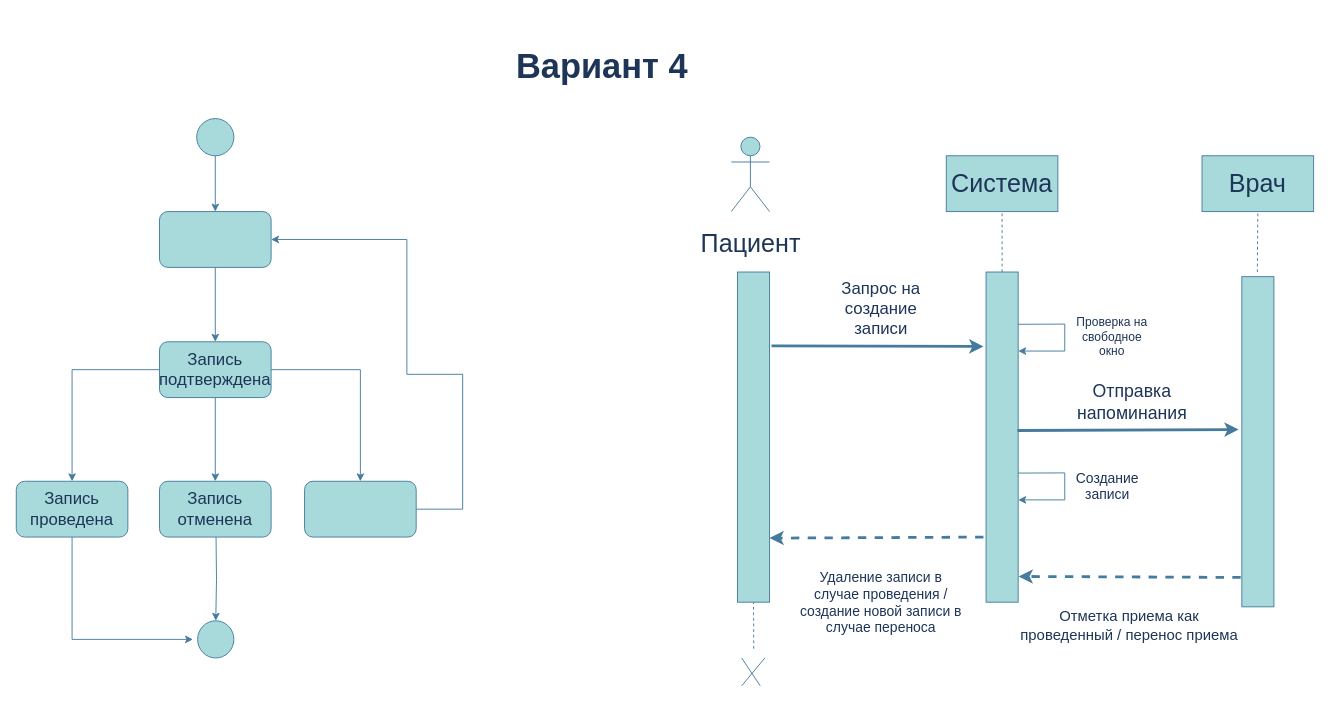
Image size: 1330x703. Some labels were removed from this diagram. The centre of each missing label's shape, as x and y in pixels:
Запись перенесена: pixel 360 508
Запись создана: pixel 215 239
